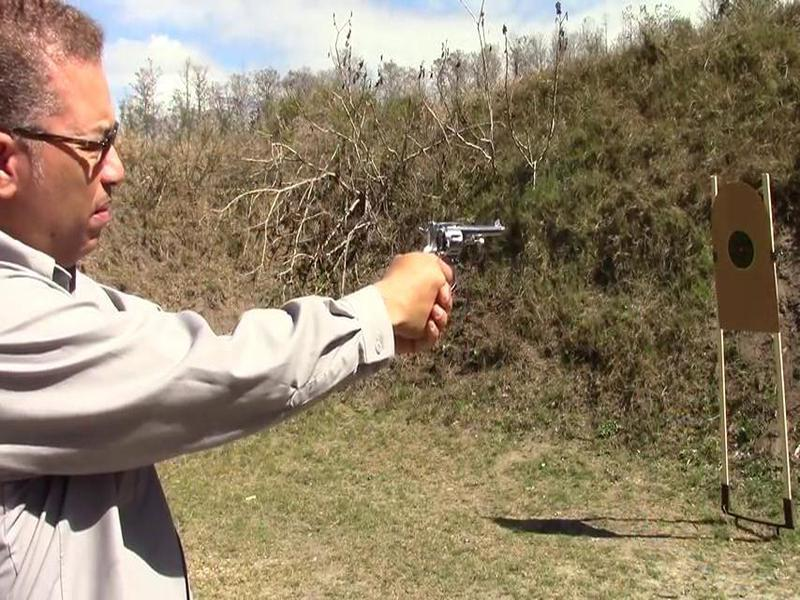Revolver: (413, 205, 512, 286)
